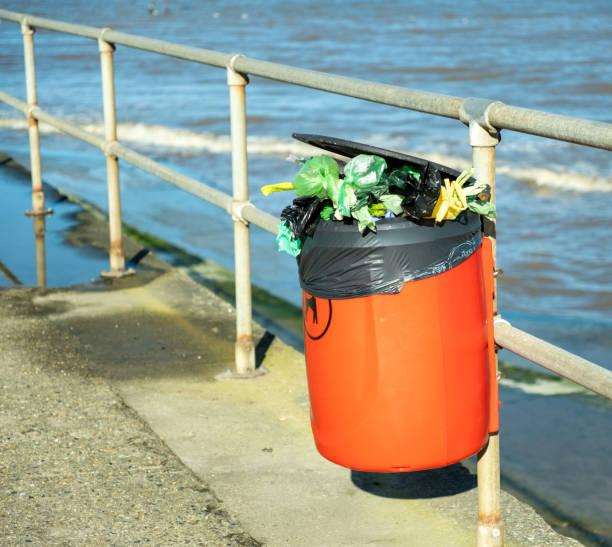trash: (274, 143, 469, 234)
trash_can_overflow: (209, 126, 532, 486)
